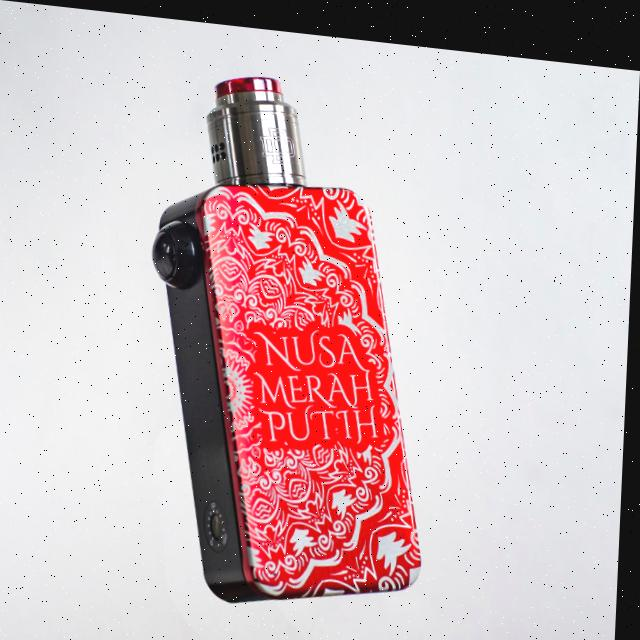vape: (143, 60, 445, 614)
